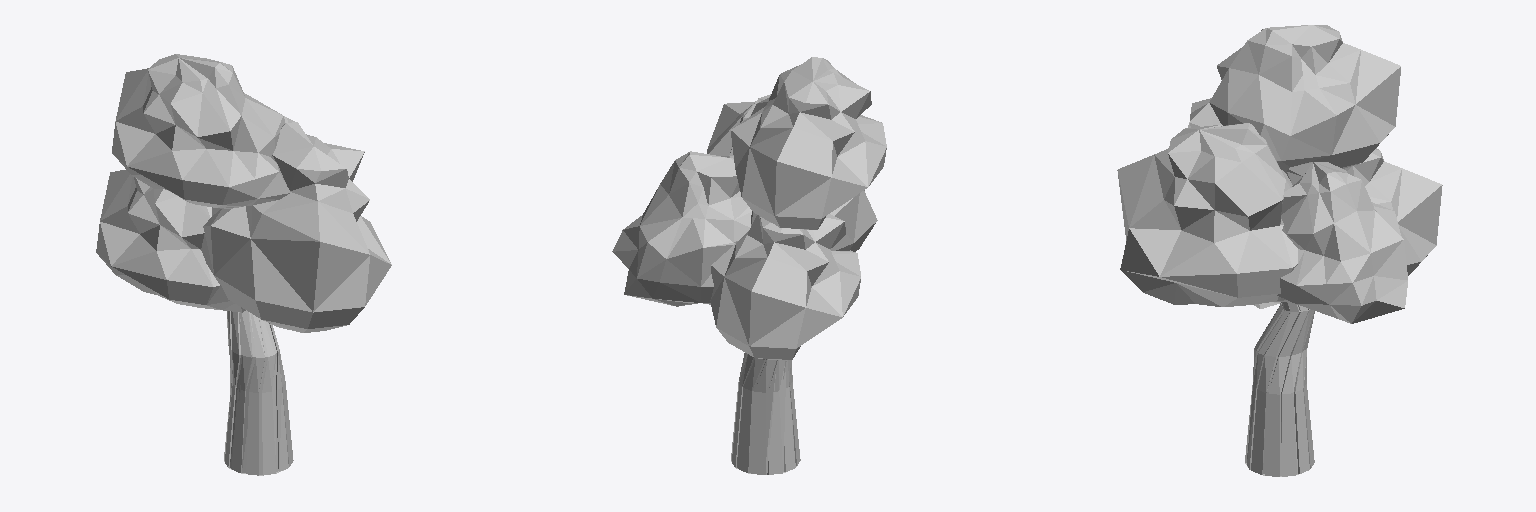
The model's file is Tree4.obj.
3 views of the same model, side by side, from view 1: azimuth 30°, elevation 25°; view 2: azimuth 150°, elevation 25°; view 3: azimuth 270°, elevation 25° (orthographic).
Parts seen in each view (by area): view 1: polySurface28; view 2: polySurface28; view 3: polySurface28.
Boxes of the visible parts, <box> form: polySurface28: <box>96,54,391,475</box>; polySurface28: <box>612,57,886,474</box>; polySurface28: <box>1117,25,1442,476</box>.
Bounding box in the file's own units: 7.58 × 12.98 × 9.3.